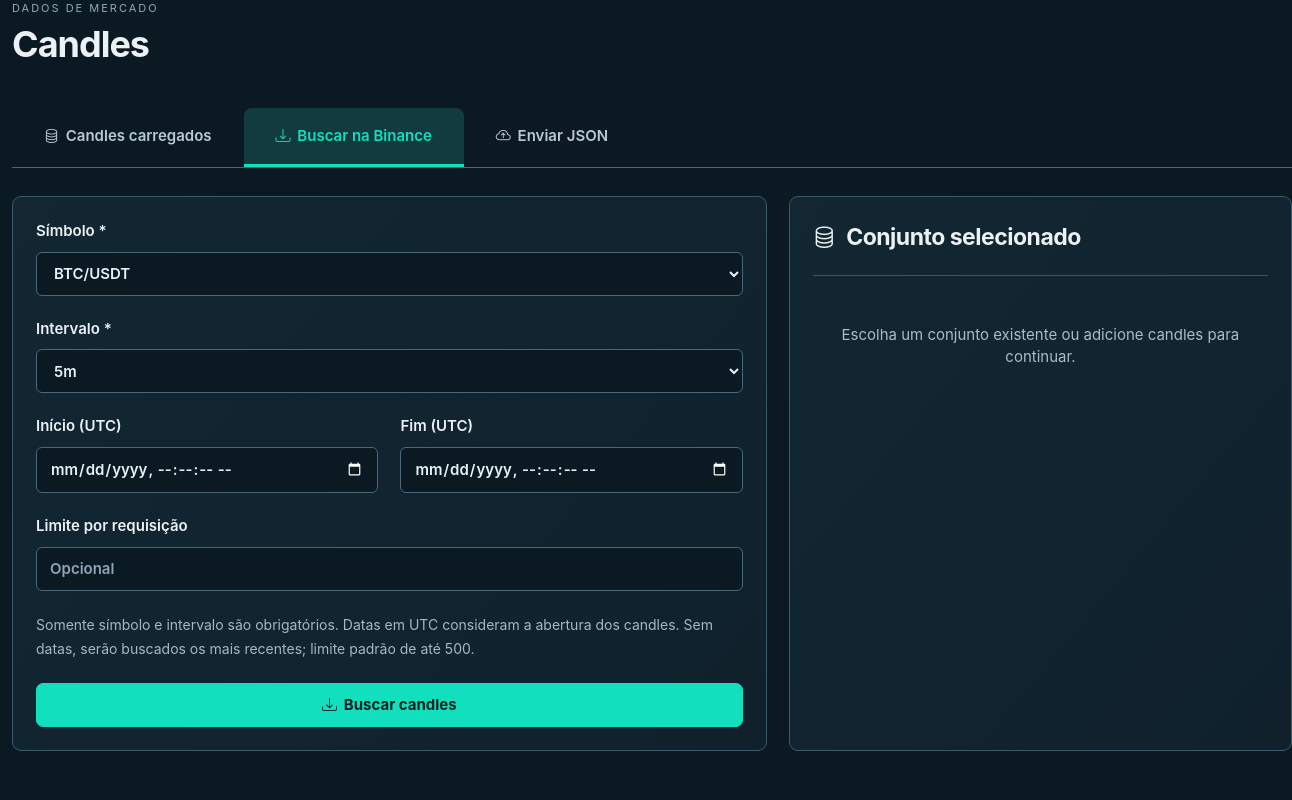
busca os conjuntos e filtra por intervalo, preservando a seleção e a criação de sessão
Later steps or results of the test are not shown.
Step 1. Click the tab "Candles carregados" → [128, 137], box [12,108,244,167]
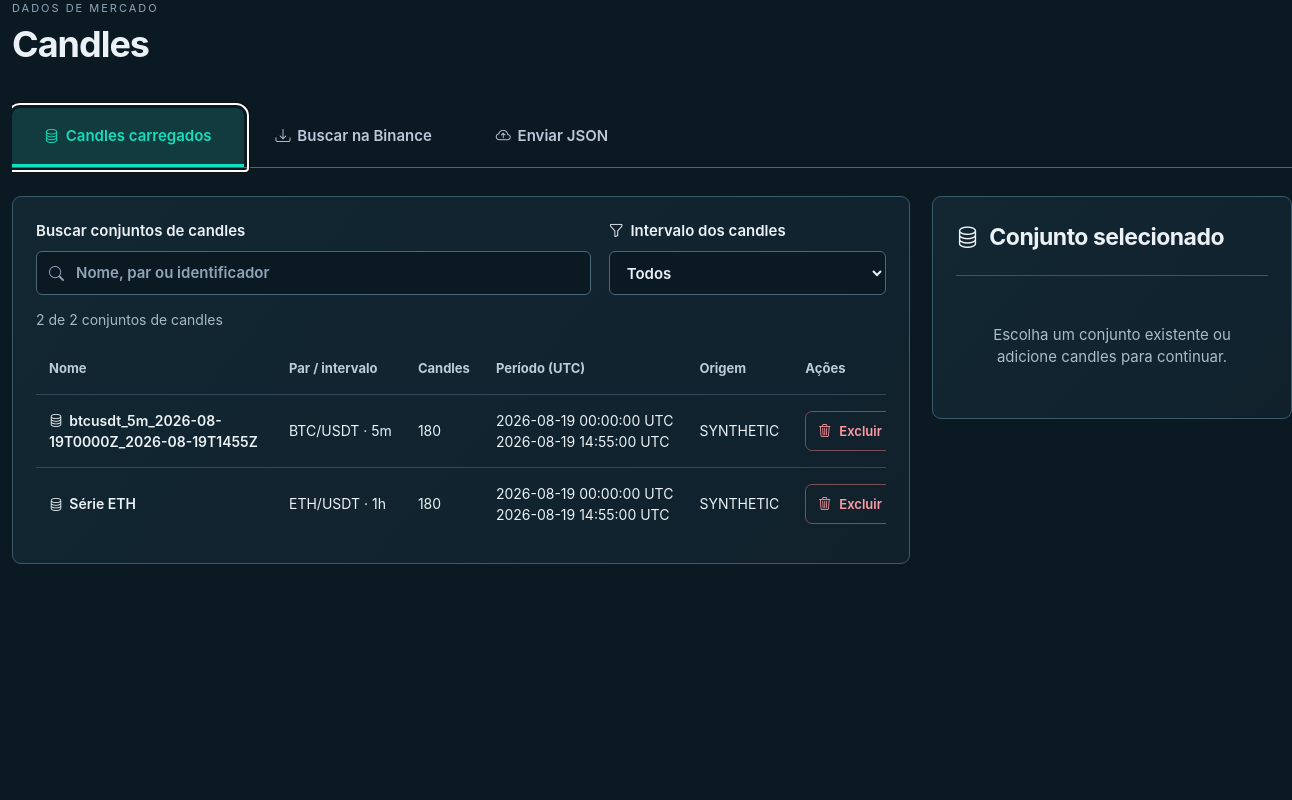
Step 2. Type "serie" into the search field labelled "Buscar conjuntos de candles" → [313, 273], box [36,251,591,295]
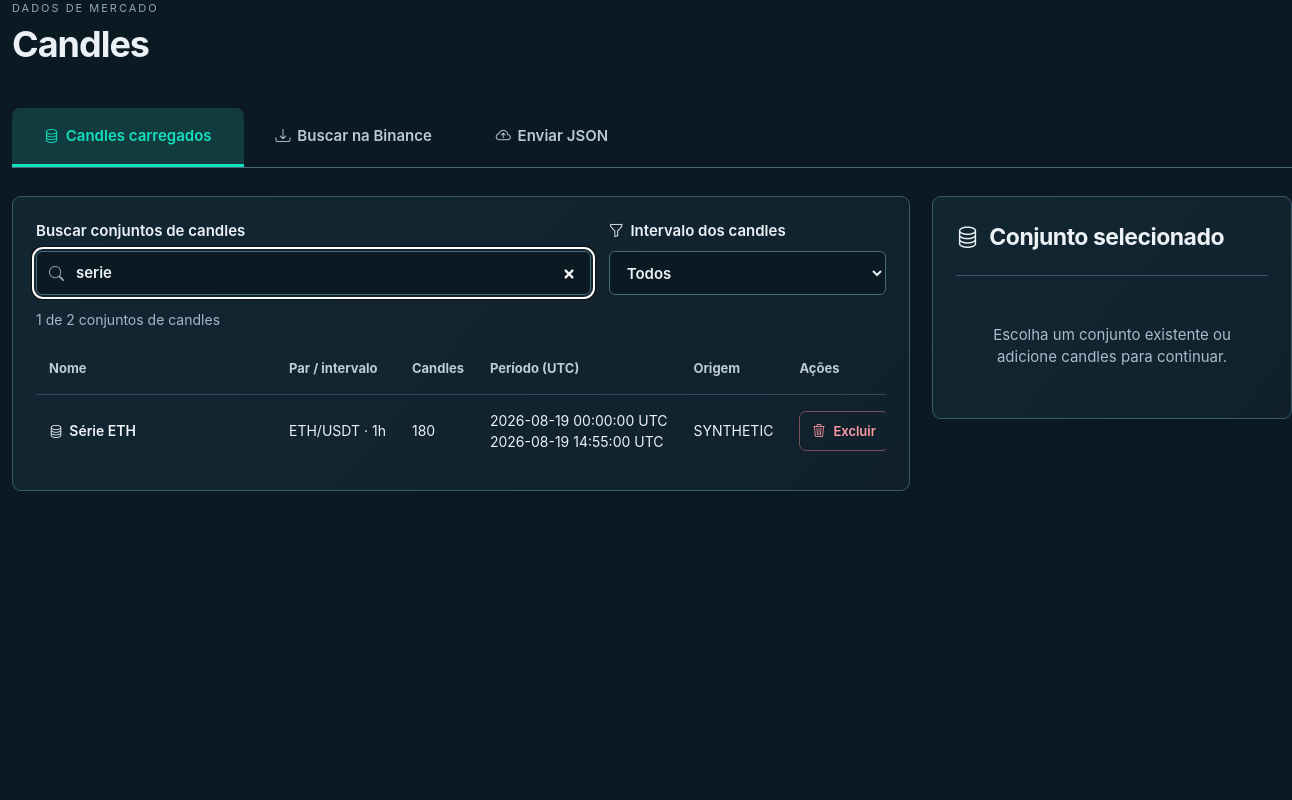
expect the number of rows is 2: met, box [36,344,886,394]; [36,395,886,467]
expect the message shows "1 de 2 conjuntos": met, box [36,311,220,328]
Step 3. Select "5m" in the dropdown labelled "Intervalo dos candles" → [747, 273], box [609,251,886,295]
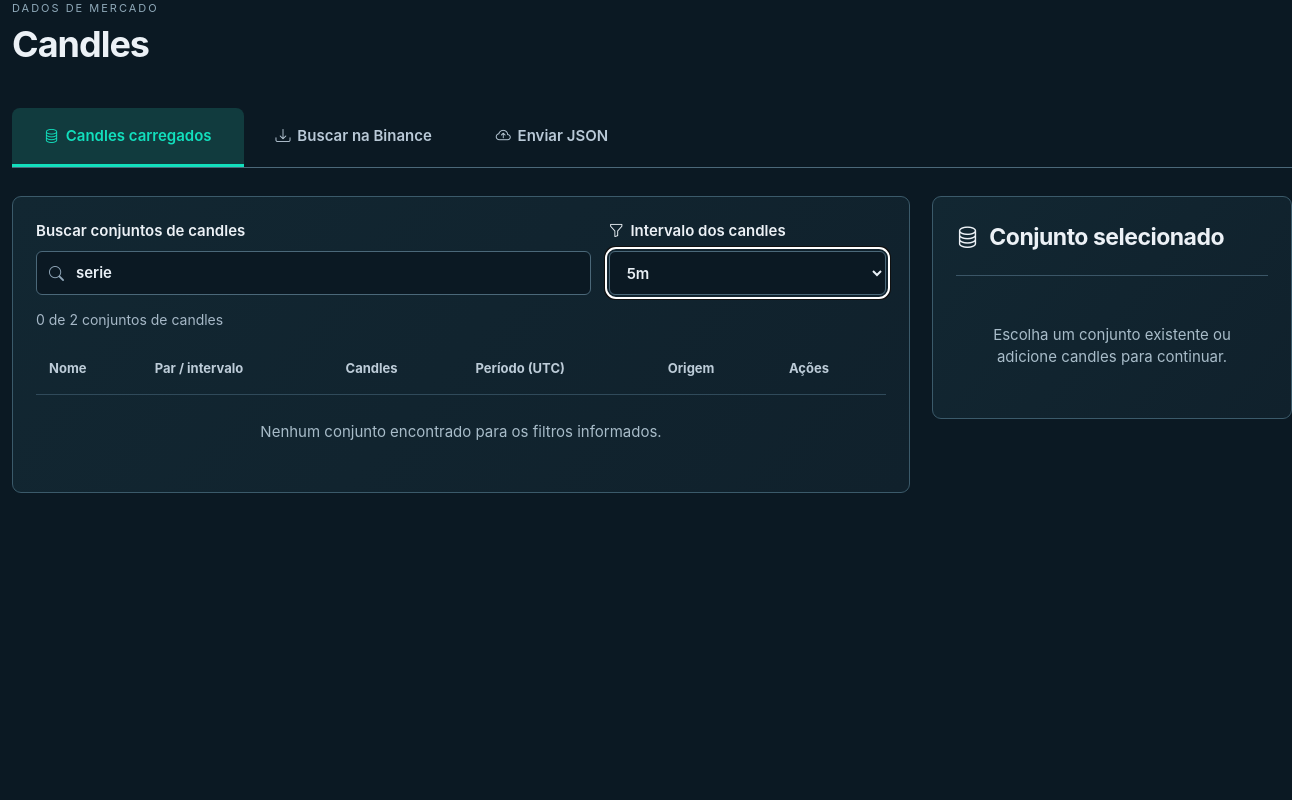
expect the text "Nenhum conjunto encontrado para os filtros informados." is shown: met, box [260,422,662,441]
Step 4. Clear the search field labelled "Buscar conjuntos de candles" → [313, 273], box [36,251,591,295]
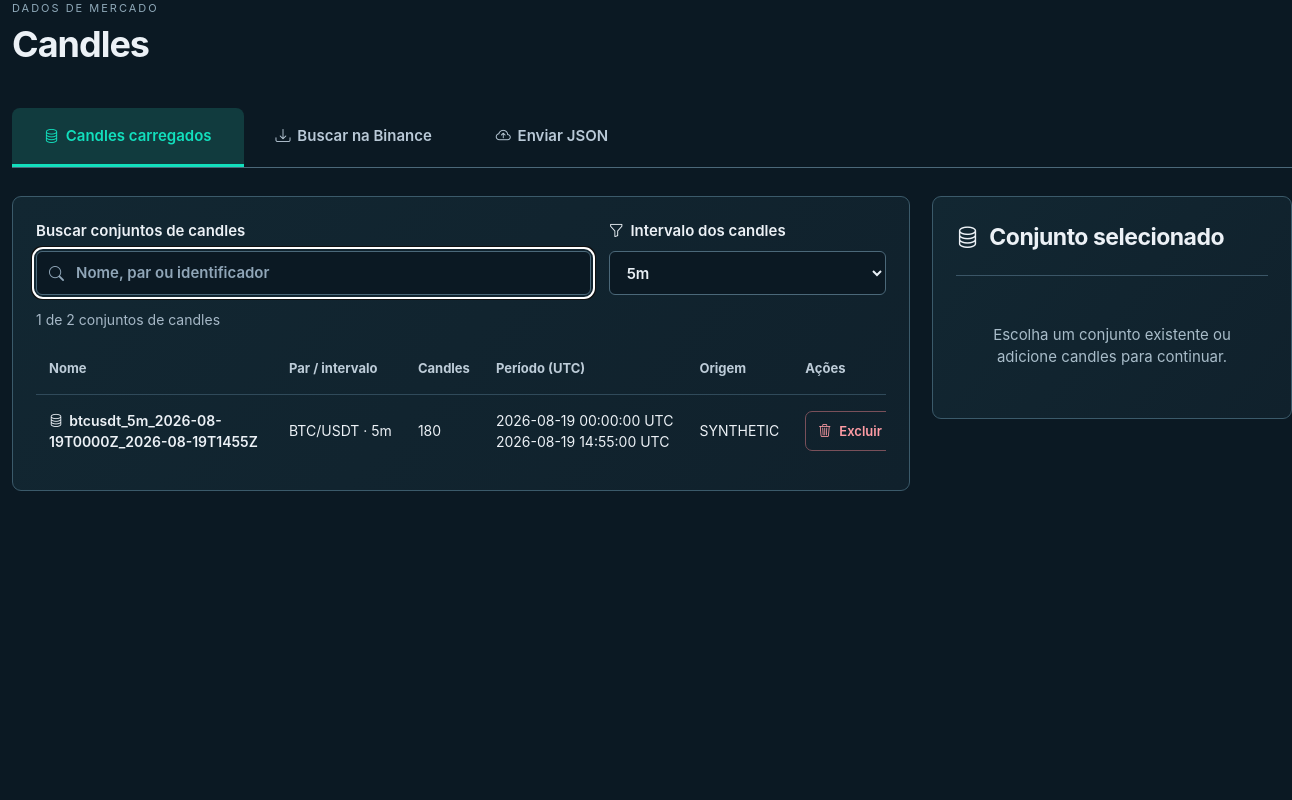
expect the number of rows is 2: met, box [36,344,886,394]; [36,395,886,467]
Step 5. Select "1h" in the dropdown labelled "Intervalo dos candles" → [747, 273], box [609,251,886,295]
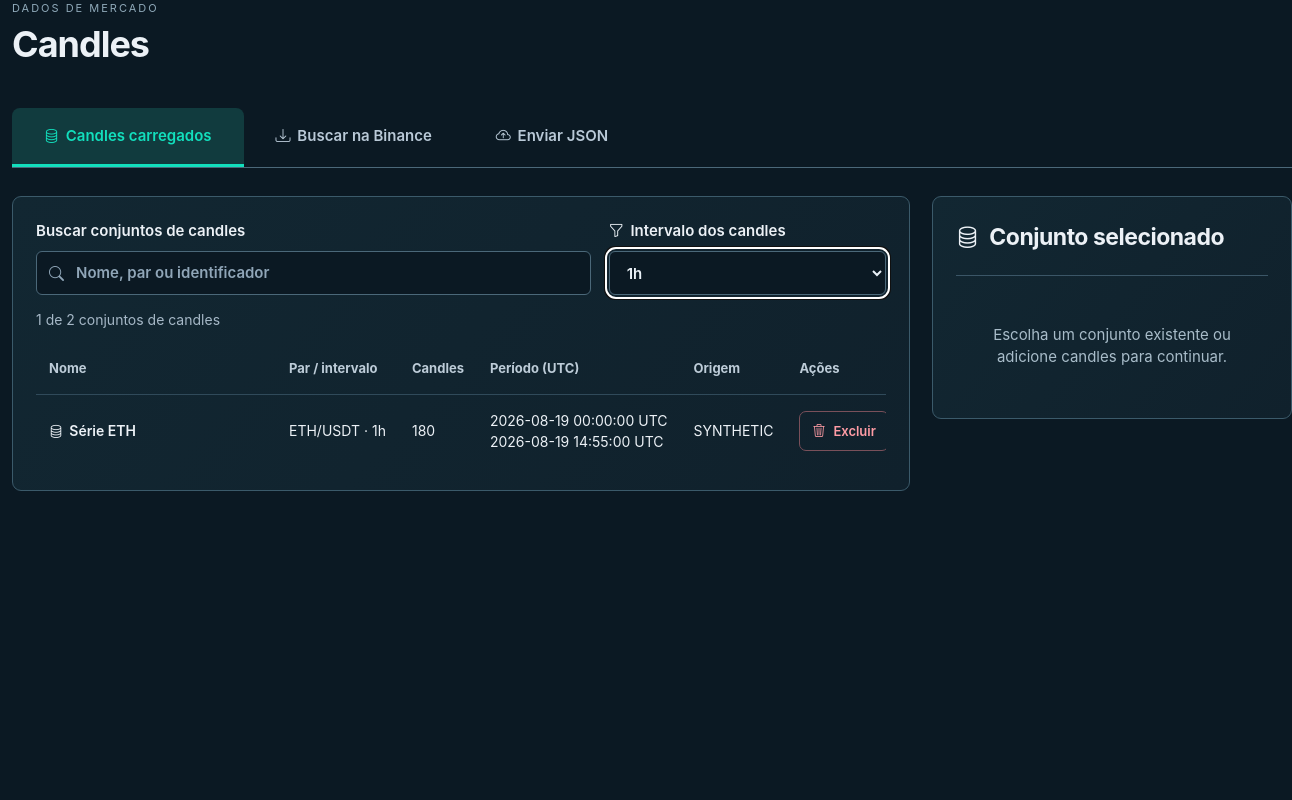
Step 6. Click the button "Série ETH" → [92, 431], box [49,420,136,441]
(page scrolled)
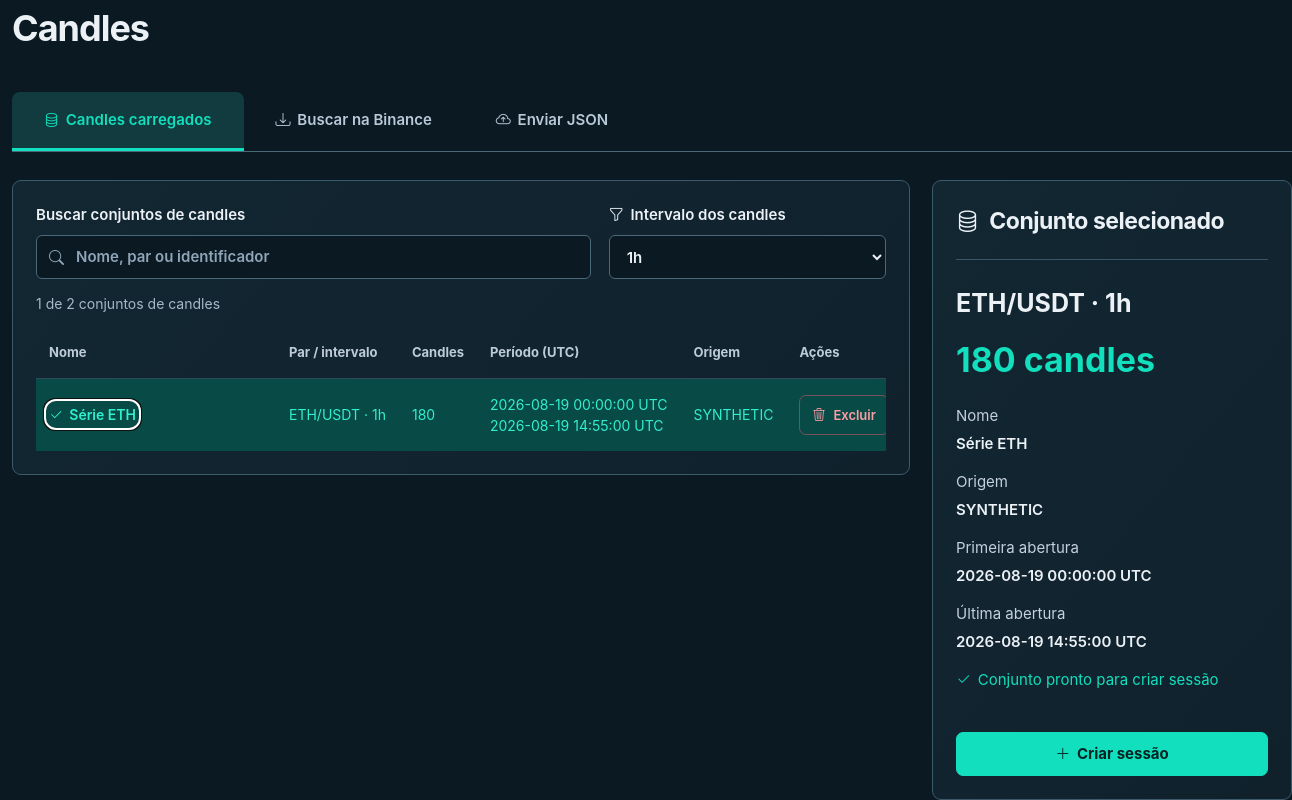
expect the button "Série ETH" is pressed: met, box [49,404,136,425]
